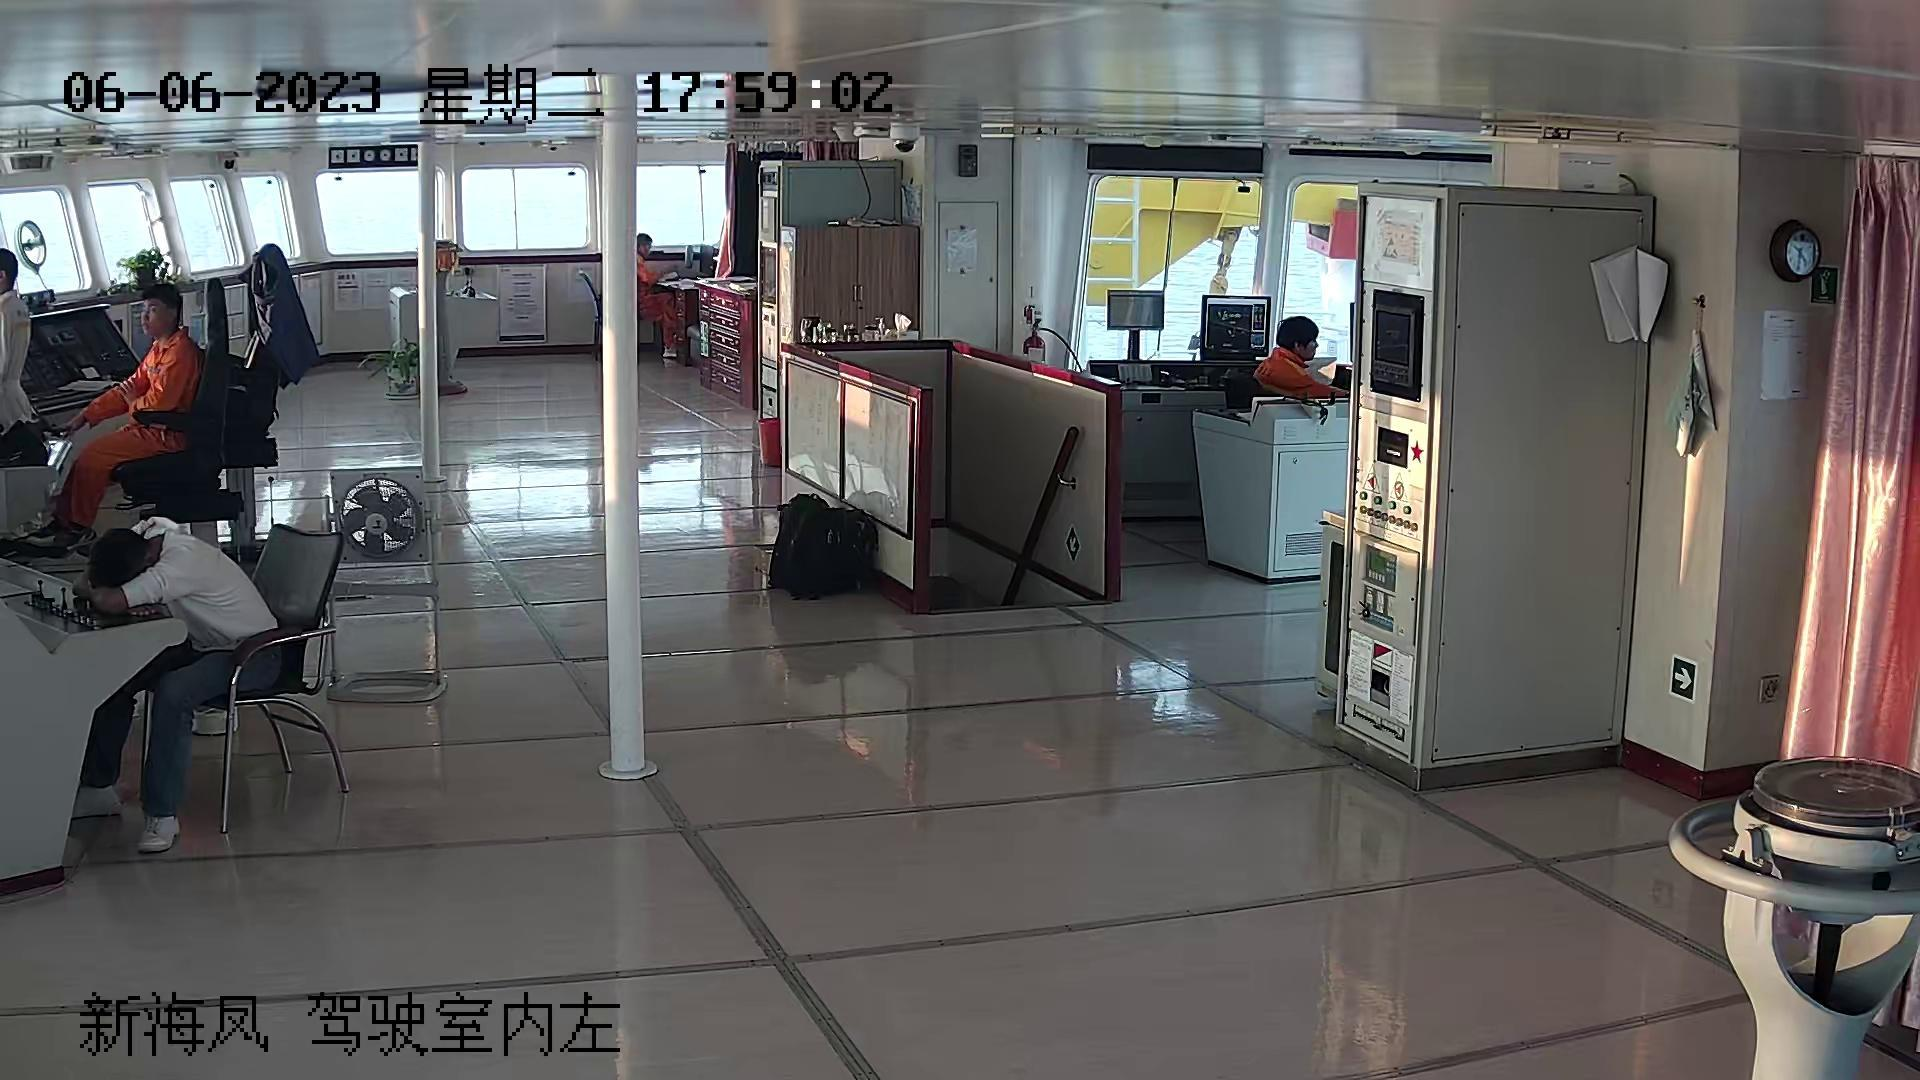sleep: (71, 516, 240, 633)
